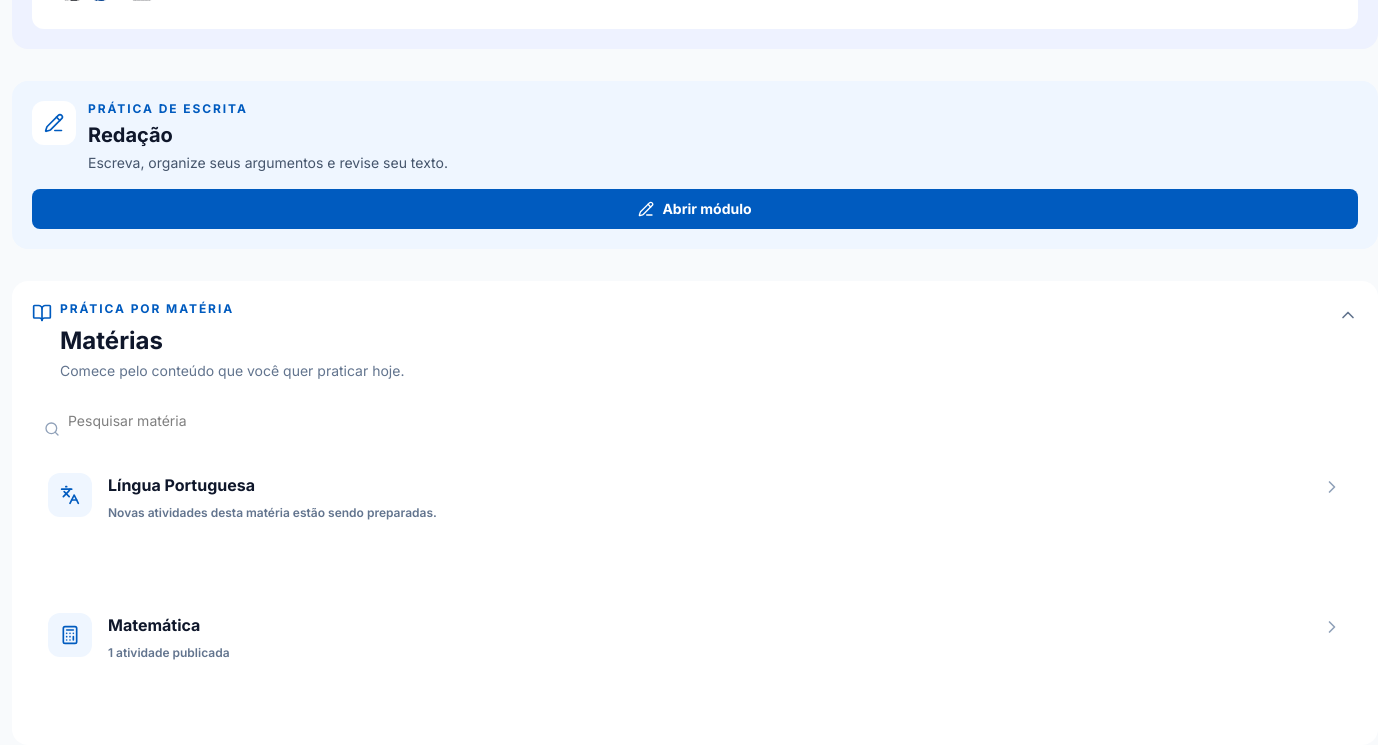
it: StudyCenterPage › uses published school activities in the subject card and page
The image size is (1378, 745).
(page scrolled)
Expected: the text "1 atividade publicada" is shown, [108,645,230,660]
Click the link "Matemática 1 atividade publicada" at coordinates (695, 661), box [32,597,1358,725]
(page scrolled)
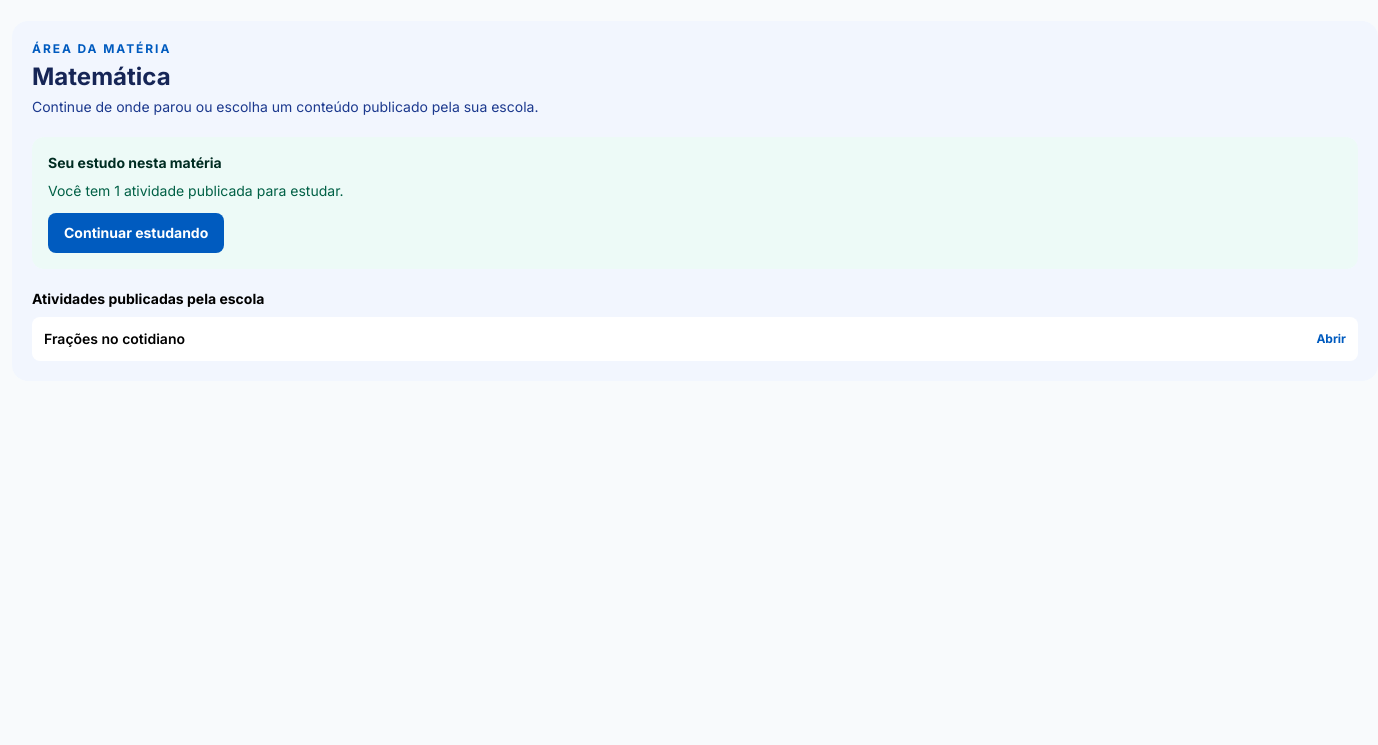
Now the heading "Atividades publicadas pela escola" is shown, box [32,290,264,307]
